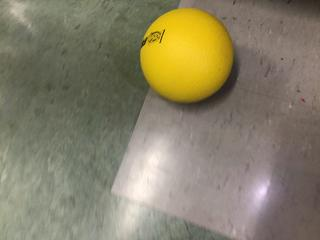power_cell: (134, 2, 239, 104)
